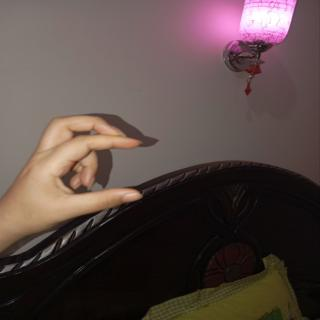DHELL: (2, 100, 168, 250)
